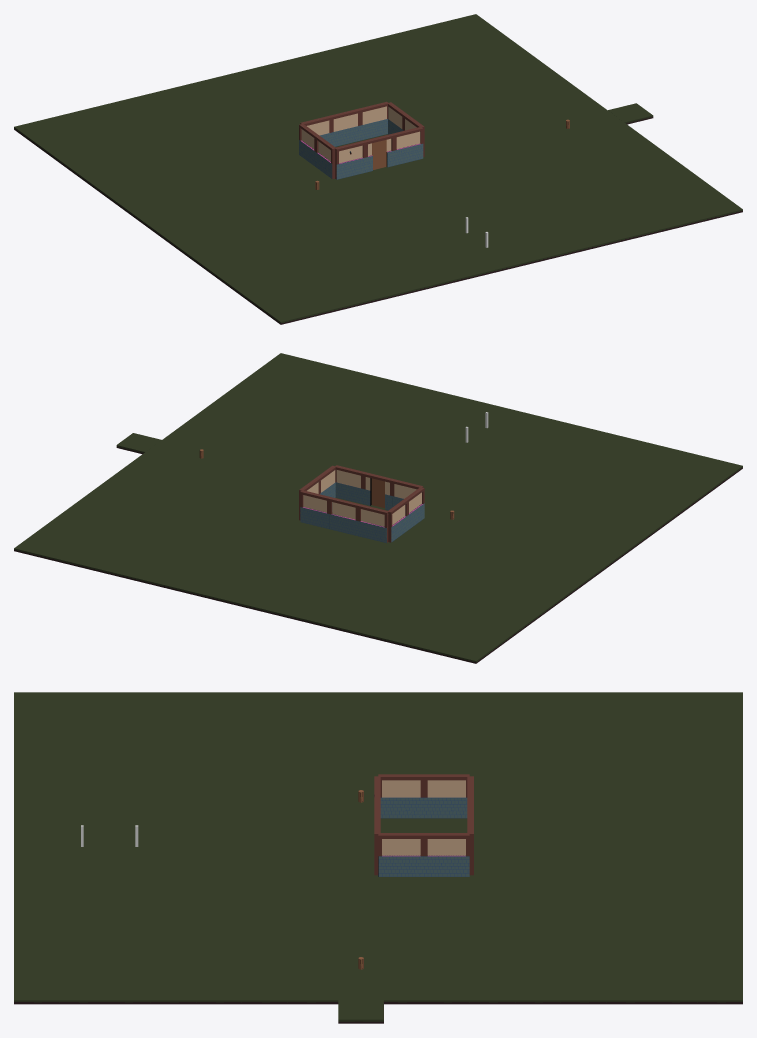
Rendered from hubworld.glb.
The picture shows the model from 3 angles, top to bottom: view 1: azimuth 30°, elevation 25°; view 2: azimuth 150°, elevation 25°; view 3: azimuth 270°, elevation 25°; orthographic projection. The views are drawn at different scales.
Visible parts, largest first — view 1: Floor, BlackSmith.001, BlackSmith.002, BlackSmith.007, BlackSmith.006, BlackSmith, BlackSmithDoorFrame, BlackSmith.004, SPAWN_dungeon_spawn_location_EAST; view 2: Floor, BlackSmith.008, BlackSmith.002, BlackSmith.006, BlackSmith.007, BlackSmith.004, BlackSmithDoorFrame, BlackSmith, SPAWN_dungeon_spawn_location_EAST; view 3: Floor, BlackSmith.003, BlackSmith.005, BlackSmith, BlackSmith.004, SPAWN_dungeon_spawn_location_EAST.
Part boxes in pixels (x1,y1,x2,y2): Floor: (14, 14, 742, 324); BlackSmith.001: (335, 141, 365, 179); BlackSmith.002: (392, 127, 423, 165); BlackSmith.007: (329, 109, 360, 146); BlackSmith.006: (358, 101, 388, 140); BlackSmith: (315, 136, 335, 179); BlackSmithDoorFrame: (363, 134, 394, 172); BlackSmith.004: (299, 124, 319, 166); SPAWN_dungeon_spawn_location_EAST: (608, 103, 653, 124); Floor: (14, 353, 742, 663); BlackSmith.008: (358, 504, 388, 542); BlackSmith.002: (334, 465, 365, 503); BlackSmith.006: (300, 490, 330, 528); BlackSmith.007: (329, 497, 359, 535); BlackSmith.004: (387, 499, 407, 542); BlackSmithDoorFrame: (363, 472, 393, 510); BlackSmith: (404, 487, 424, 529); SPAWN_dungeon_spawn_location_EAST: (116, 433, 161, 454); Floor: (14, 692, 742, 1004); BlackSmith.003: (378, 833, 423, 876); BlackSmith.005: (424, 833, 469, 876); BlackSmith: (378, 774, 423, 818); BlackSmith.004: (424, 774, 469, 818); SPAWN_dungeon_spawn_location_EAST: (338, 1000, 383, 1023).
Size of what is drawn, in the model's own units: 34 by 2.19 by 32.
8 materials, 8 textured.
